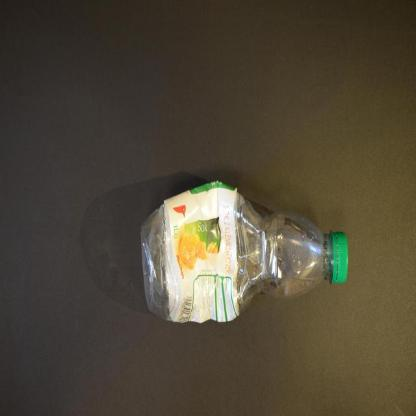Plastic Bottle: (142, 181, 348, 322)
